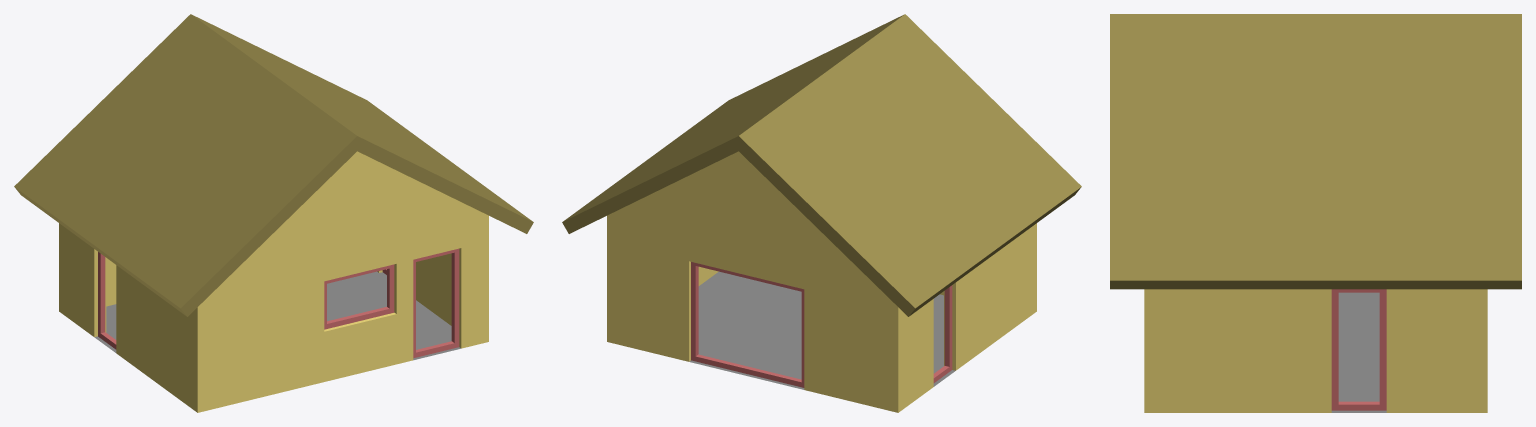
Rendered from result.glb.
3 views of the same model, side by side, from view 1: azimuth 30°, elevation 25°; view 2: azimuth 150°, elevation 25°; view 3: azimuth 270°, elevation 25° (orthographic). The views are drawn at different scales.
Parts seen in each view (by area): view 1: e6b4bafe-c9ad-466c-8f9e-b82188e4cea5__undefined (×2), a53231ab-3a01-48c2-a385-309f6d767795__undefined, 41f8eadc-3a74-46f1-9312-b7fcdc020eb7__Plane_6, 6691ba0d-7ac3-4d9a-a6f5-9b8f5294498e__Box, 6d44116b-194c-46bd-a2f8-78ebdd0c6ee7__Box_3, 9694a953-4b6a-4a43-a470-0afa146bbde7__Box_12; view 2: e6b4bafe-c9ad-466c-8f9e-b82188e4cea5__undefined (×2), a53231ab-3a01-48c2-a385-309f6d767795__undefined, 41f8eadc-3a74-46f1-9312-b7fcdc020eb7__Plane_6, 55972748-6834-4ea6-b84b-79771ea18a44__Box_9, 9694a953-4b6a-4a43-a470-0afa146bbde7__Box_12; view 3: e6b4bafe-c9ad-466c-8f9e-b82188e4cea5__undefined, a53231ab-3a01-48c2-a385-309f6d767795__undefined, 41f8eadc-3a74-46f1-9312-b7fcdc020eb7__Plane_6, 4cebbd05-bf78-412f-b5e1-f633fb3c1fe0__Box_15.
Part boxes in pixels (<box>): e6b4bafe-c9ad-466c-8f9e-b82188e4cea5__undefined (×2): <box>14,14,533,316</box>; a53231ab-3a01-48c2-a385-309f6d767795__undefined: <box>59,151,488,412</box>; 41f8eadc-3a74-46f1-9312-b7fcdc020eb7__Plane_6: <box>94,271,460,360</box>; 6691ba0d-7ac3-4d9a-a6f5-9b8f5294498e__Box: <box>413,248,459,358</box>; 6d44116b-194c-46bd-a2f8-78ebdd0c6ee7__Box_3: <box>324,264,394,329</box>; 9694a953-4b6a-4a43-a470-0afa146bbde7__Box_12: <box>98,252,116,349</box>; e6b4bafe-c9ad-466c-8f9e-b82188e4cea5__undefined (×2): <box>562,14,1081,316</box>; a53231ab-3a01-48c2-a385-309f6d767795__undefined: <box>607,151,1036,412</box>; 41f8eadc-3a74-46f1-9312-b7fcdc020eb7__Plane_6: <box>689,271,955,389</box>; 55972748-6834-4ea6-b84b-79771ea18a44__Box_9: <box>691,262,804,387</box>; 9694a953-4b6a-4a43-a470-0afa146bbde7__Box_12: <box>933,285,952,382</box>; e6b4bafe-c9ad-466c-8f9e-b82188e4cea5__undefined: <box>1110,14,1521,289</box>; a53231ab-3a01-48c2-a385-309f6d767795__undefined: <box>1144,289,1487,412</box>; 41f8eadc-3a74-46f1-9312-b7fcdc020eb7__Plane_6: <box>1331,292,1386,412</box>; 4cebbd05-bf78-412f-b5e1-f633fb3c1fe0__Box_15: <box>1331,289,1386,410</box>.
Bounding box in the file's own units: 735 × 500 × 600.
